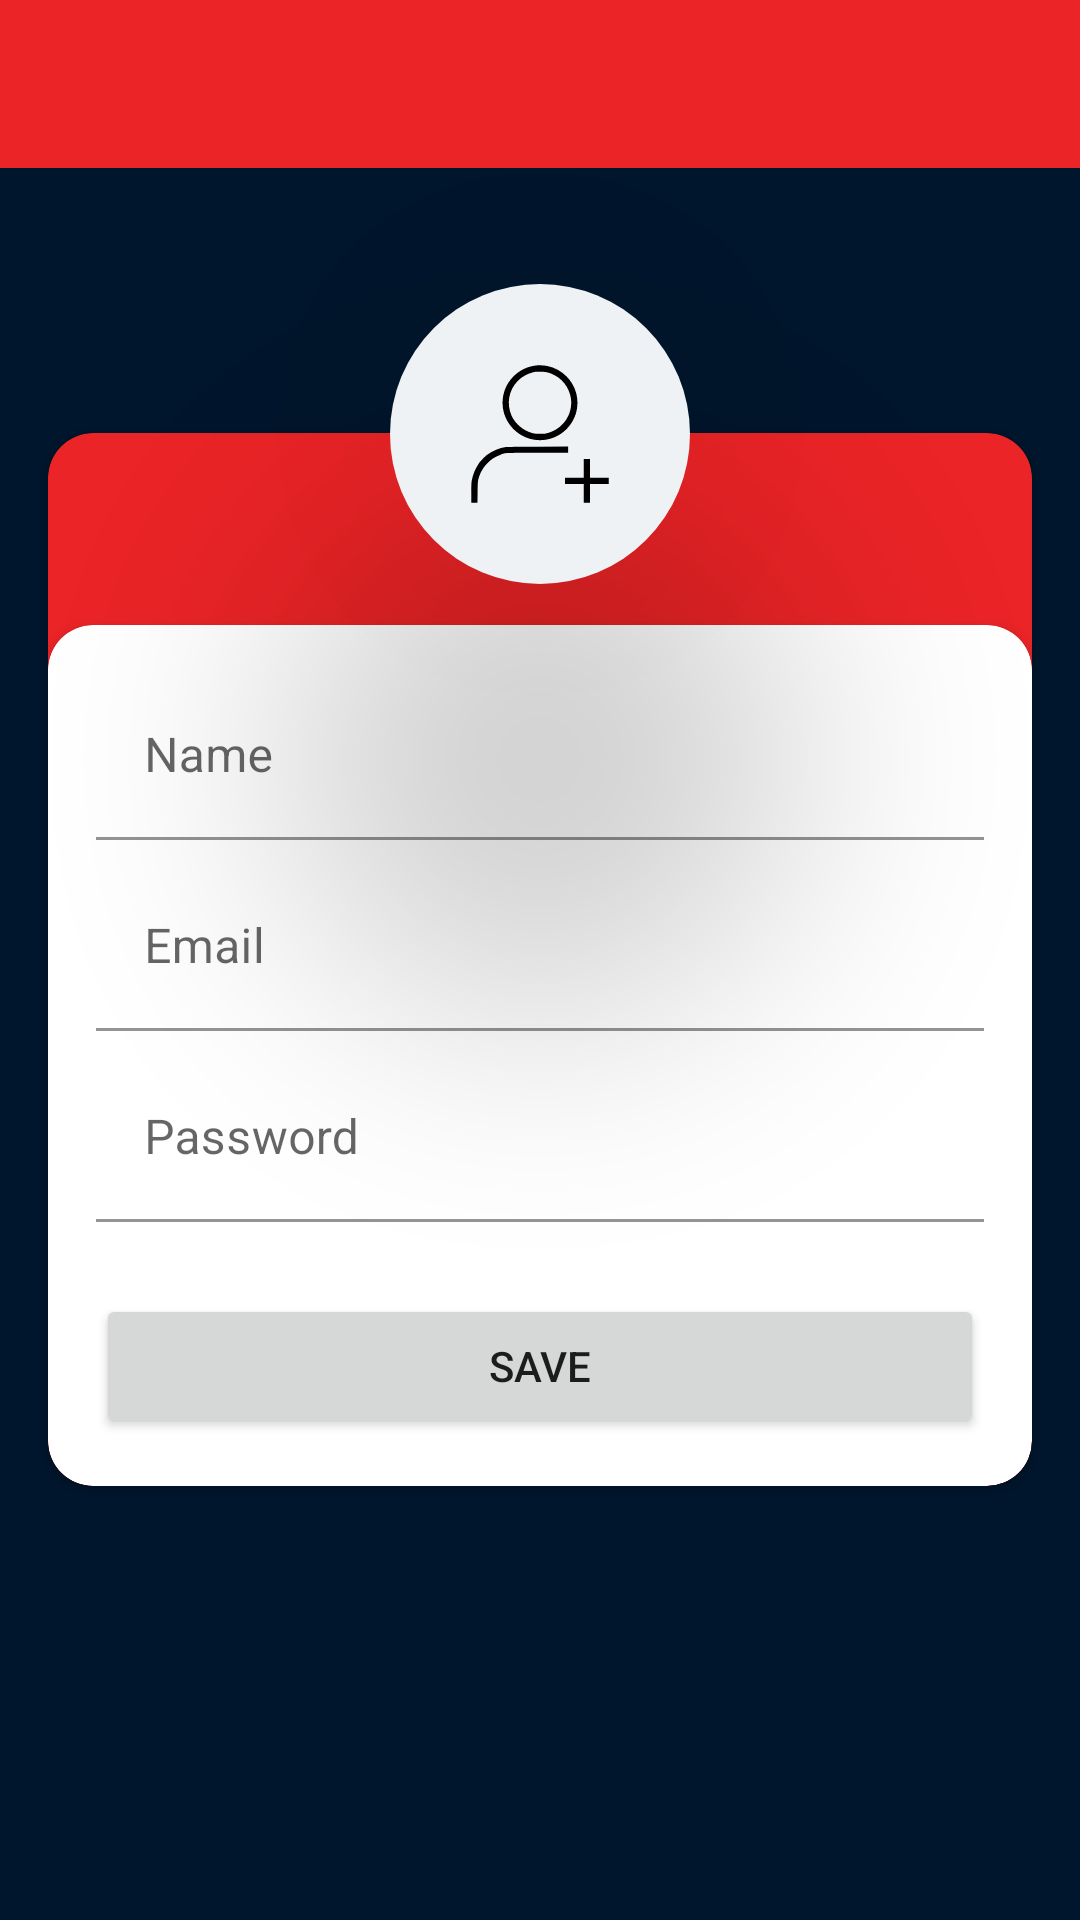

Locate icon controls on the screen. Image size 1080*1920, boxes as rect(x1, y1, x2, y2).
user plus: rect(471, 365, 609, 503)
